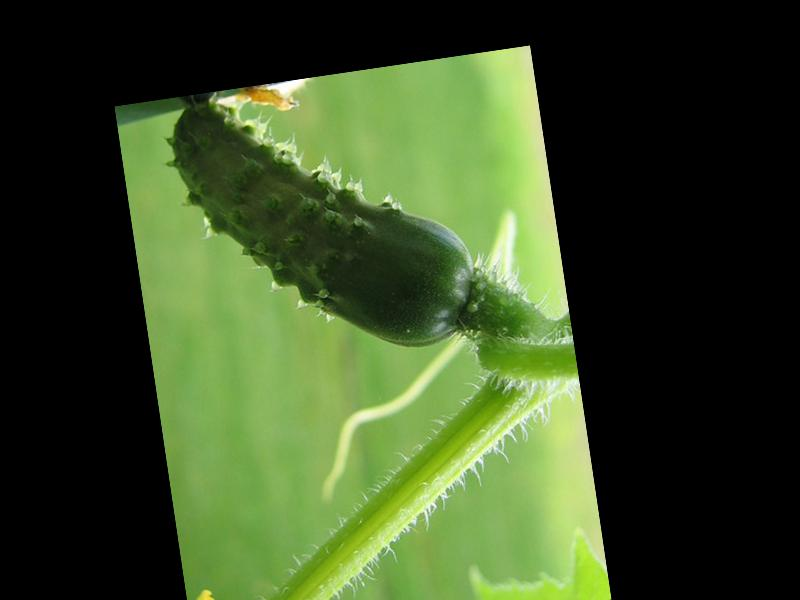Cucumber: (163, 67, 481, 383)
